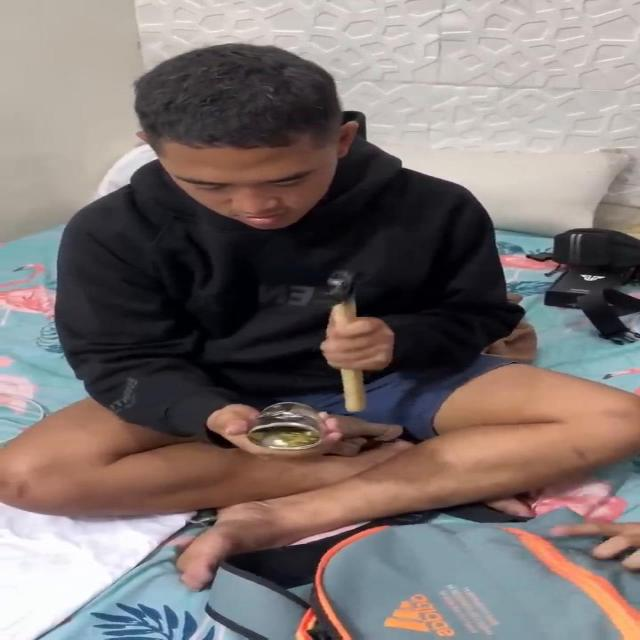hammer: (314, 269, 369, 412)
